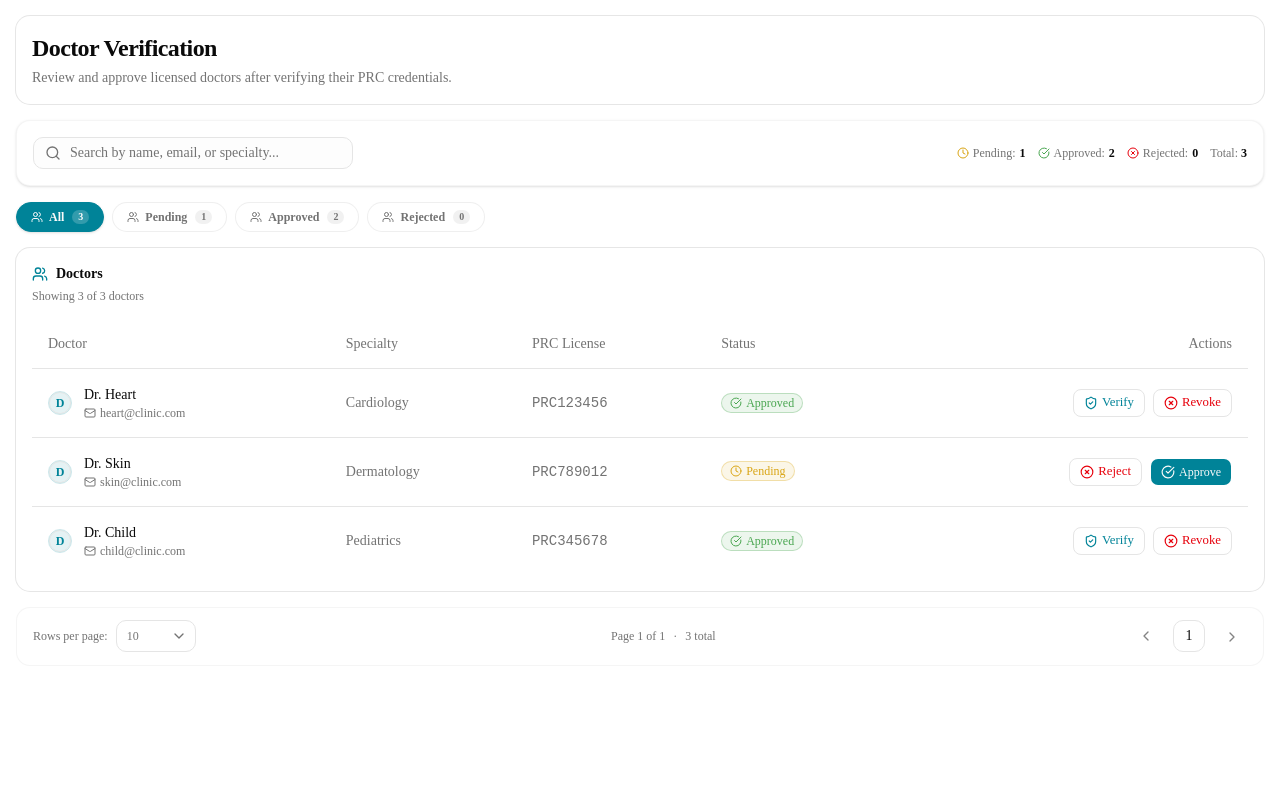
Test case: AdminDoctorsPage › filters to pending doctors only
Check: the text "Doctor Verification" is shown, box [32, 35, 217, 61]
Check: the text "Dr. Heart" is shown, box [84, 386, 136, 402]
Click the button "Pending 1" at (170, 217), box [112, 202, 227, 232]
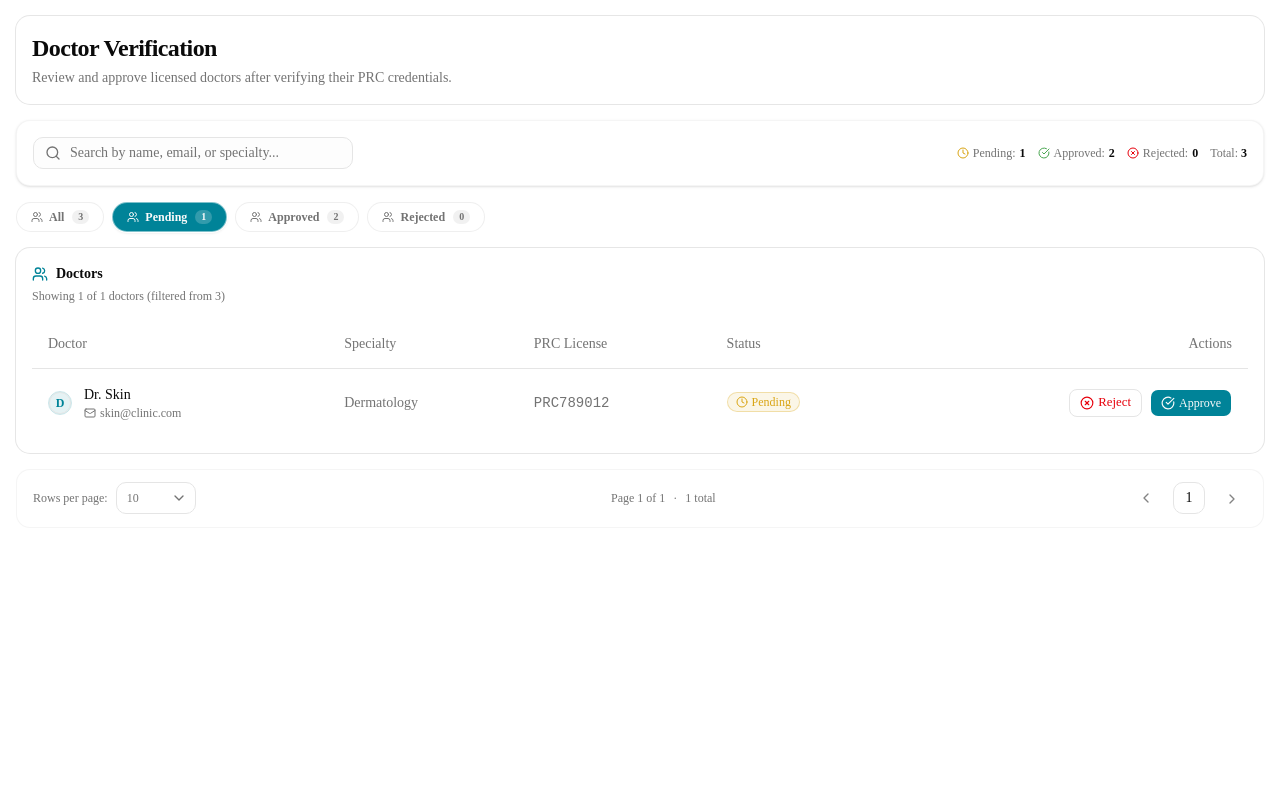
Check: the text "Dr. Skin" is shown, box [84, 386, 131, 402]
Check: the text "Dr. Heart" is gone
